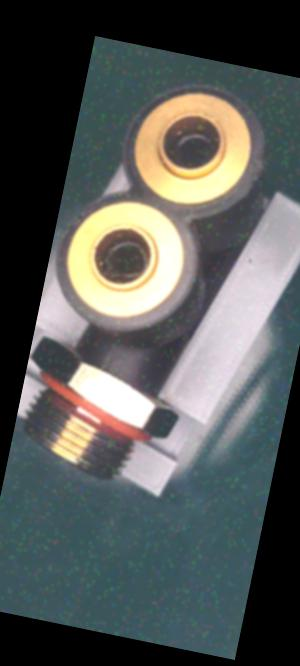bump: (251, 140, 274, 182)
off-centered: (94, 229, 154, 285)
white mark: (111, 348, 136, 372), (101, 349, 113, 371)
